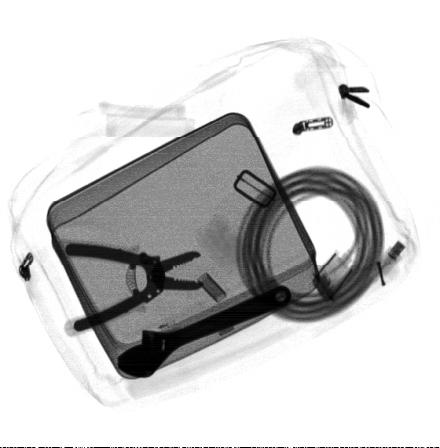Pliers: (57, 239, 204, 339)
Wrench: (117, 284, 292, 377)
